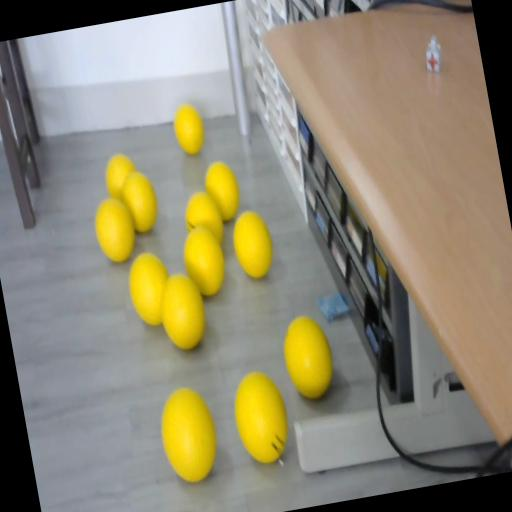FUEL: (152, 381, 222, 484), (226, 366, 294, 466), (276, 310, 336, 402), (153, 269, 212, 354), (177, 220, 231, 299), (228, 206, 278, 281), (90, 194, 138, 264), (116, 166, 162, 234), (200, 158, 244, 222), (170, 100, 208, 156)
